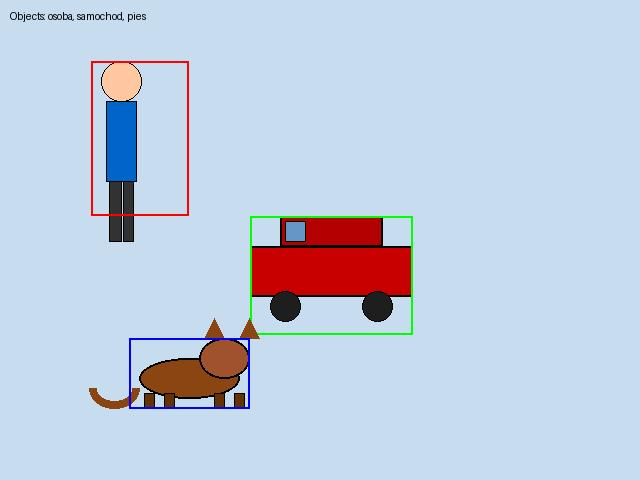osoba: (91, 61, 188, 215)
pies: (129, 338, 249, 408)
samochod: (250, 216, 412, 334)
